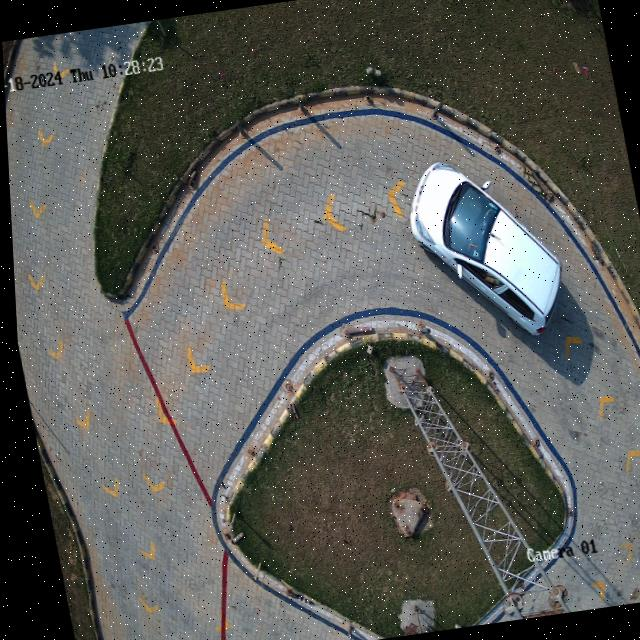car: (406, 161, 561, 336)
